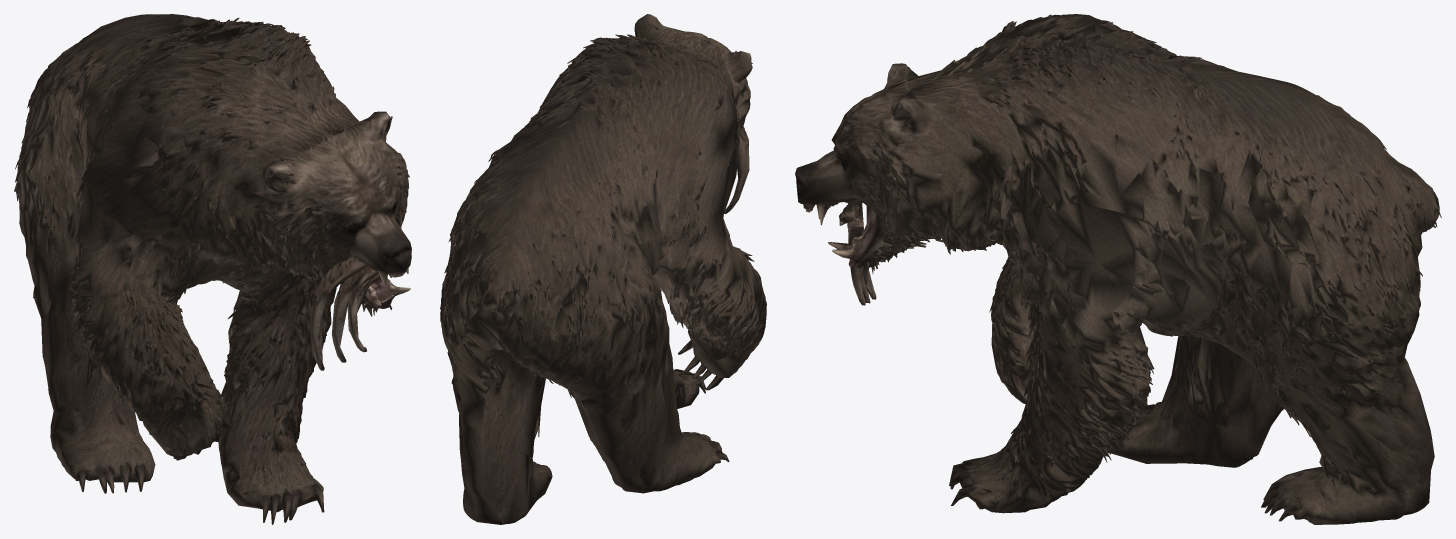
Rendered from bear.glb.
The picture shows the model from 3 angles, left to right: view 1: azimuth 30°, elevation 25°; view 2: azimuth 150°, elevation 25°; view 3: azimuth 270°, elevation 25°; orthographic projection. The views are drawn at different scales.
Bounding box in the file's own units: 0.9128 × 1.5 × 1.9.
Materials: 1 (1 with a texture image).
